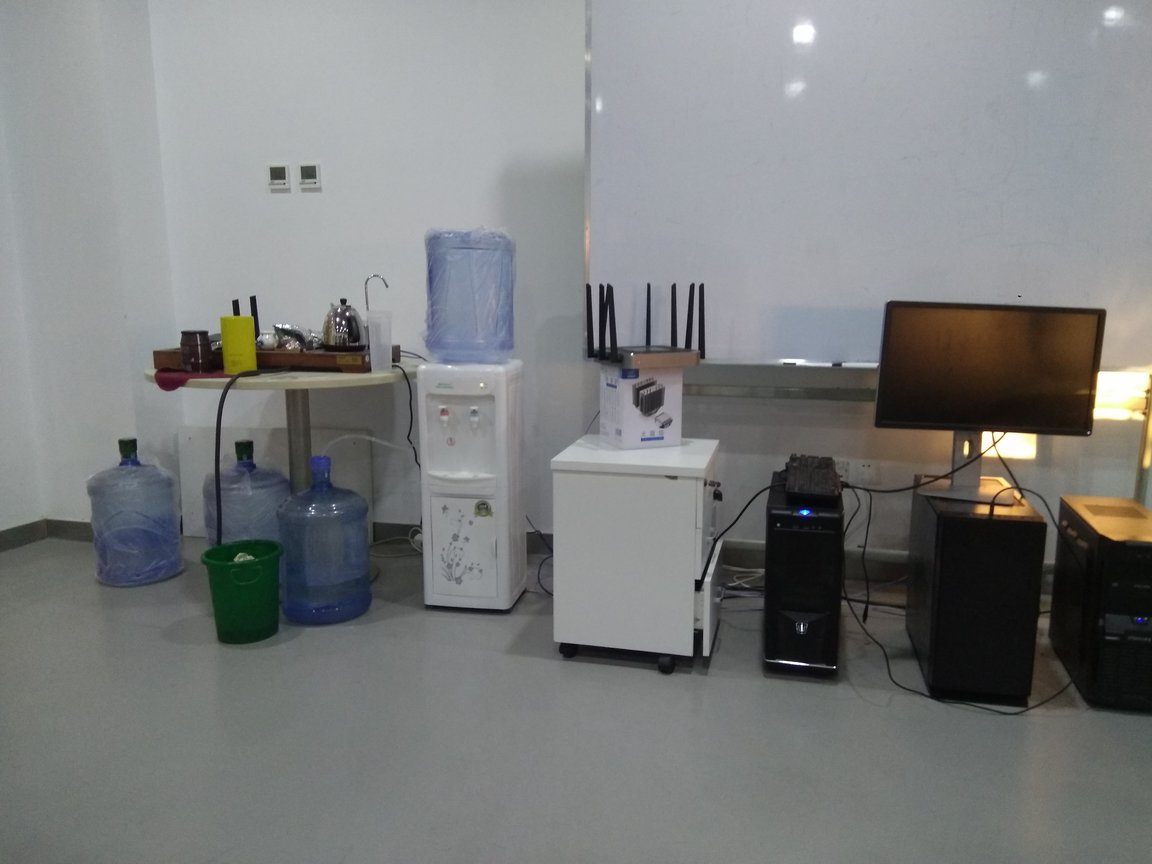computer: (904, 471, 1047, 717), (1048, 493, 1152, 708), (756, 469, 851, 694)
drawer chest: (545, 427, 732, 683)
monitor: (873, 294, 1109, 506)
scuttlebutt: (272, 453, 378, 629), (420, 225, 531, 370), (203, 438, 295, 606), (90, 437, 178, 596)
water dispenser: (408, 353, 534, 622)
